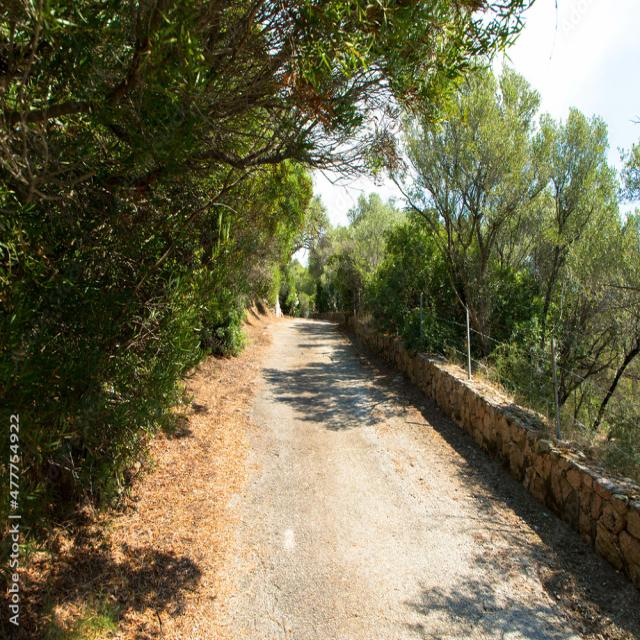Pothole: (367, 346, 640, 630)
